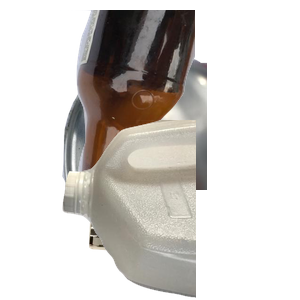glass: (60, 10, 300, 190)
metal: (60, 44, 300, 224)
plastic: (60, 120, 300, 300)
trash: (86, 158, 242, 300)
